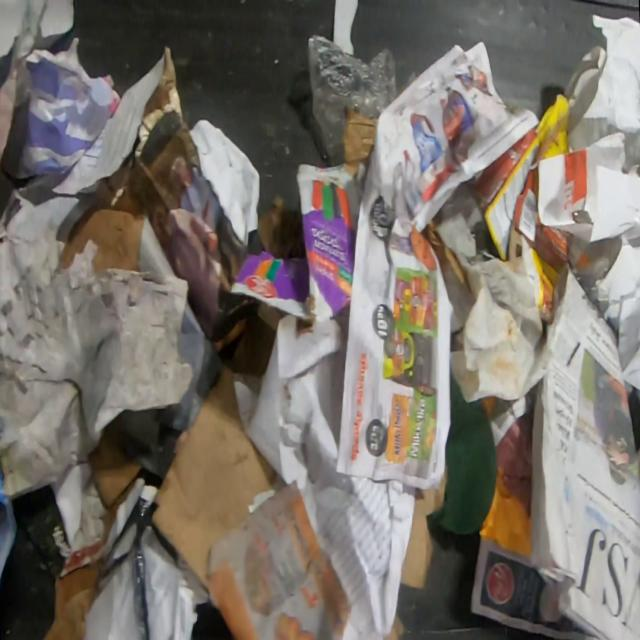cardboard: (150, 304, 282, 592), (470, 93, 595, 326), (227, 162, 367, 326), (42, 433, 144, 640), (57, 162, 148, 274), (399, 459, 446, 589), (0, 469, 20, 586), (344, 108, 377, 176)
rigid_plastic: (101, 496, 166, 640)
soft_plastic: (306, 30, 401, 166)
